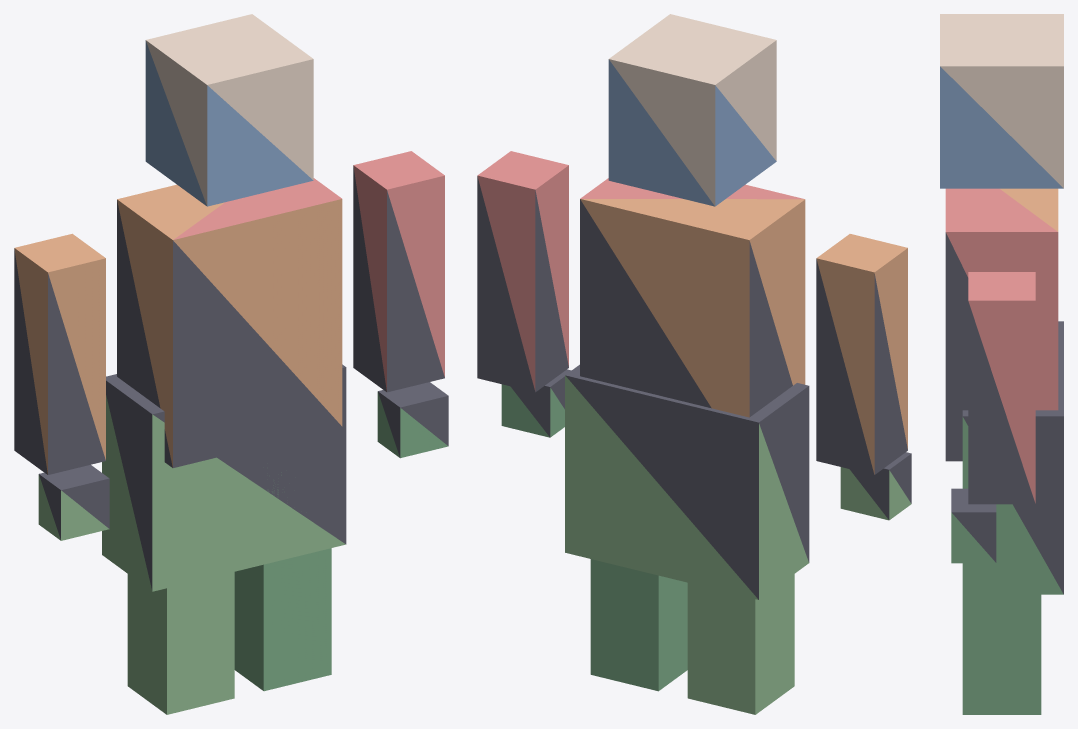
File: coat_parts.glb
The picture shows the model from 3 angles, left to right: view 1: azimuth 30°, elevation 25°; view 2: azimuth 150°, elevation 25°; view 3: azimuth 270°, elevation 25°; orthographic projection.
Parts seen in each view (by area): view 1: demo; view 2: demo; view 3: demo.
Boxes of the visible parts, box(x1,y1,x2,y2) form: demo: box(14, 14, 448, 714); demo: box(477, 14, 911, 714); demo: box(940, 14, 1063, 714).
Bounding box in the file's own units: 0.7574 × 1.15 × 0.2032.
